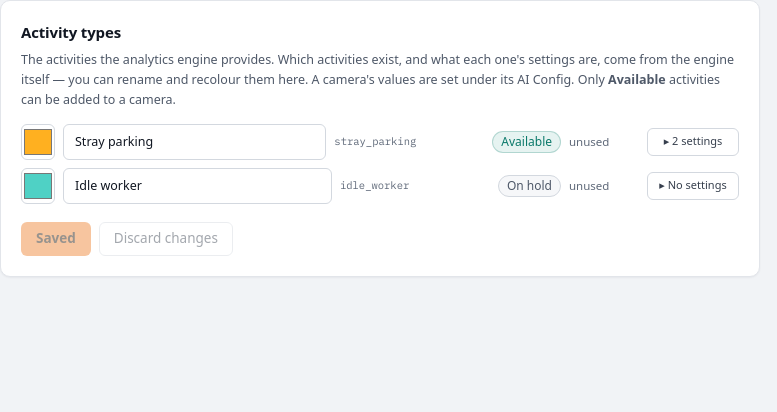
ActivityTypesTab › shows the settings the engine defines, read-only, in words
This screenshot has width=777, height=412.
Click the button "▸ 2 settings" at point(693, 142), box [647, 128, 739, 156]
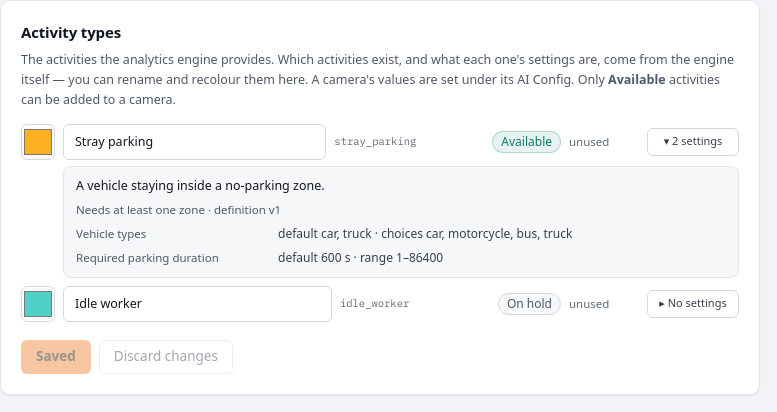
Expected: the text "Required parking duration" is shown, [76, 250, 219, 264]
Expected: the text "default 600 s · range 1–86400" is shown, [278, 248, 443, 266]
Expected: the text "Needs at least one zone · definition v1" is shown, [76, 202, 281, 217]
